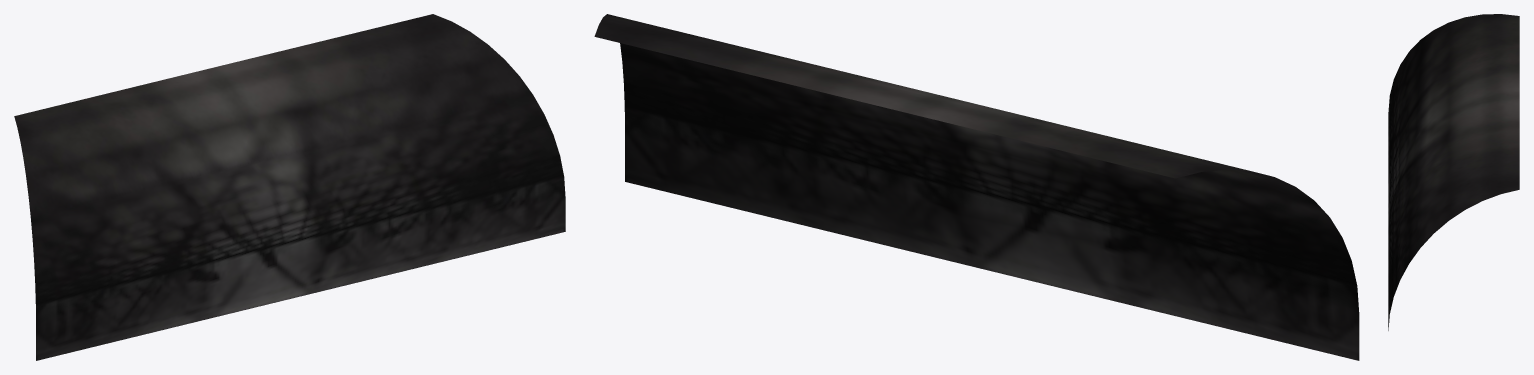
File: ARC0610015.fbx
The picture shows the model from 3 angles, left to right: view 1: azimuth 30°, elevation 25°; view 2: azimuth 150°, elevation 25°; view 3: azimuth 270°, elevation 25°; orthographic projection. The views are drawn at different scales.
Visible parts, largest first — view 1: smARC0610015; view 2: smARC0610015; view 3: smARC0610015.
Boxes of the visible parts, box(x1,y1,x2,y2) form: smARC0610015: box(14, 14, 565, 360); smARC0610015: box(594, 14, 1359, 360); smARC0610015: box(1388, 14, 1519, 330).
Size of the model in its own units: 3493 by 1100 by 884.
1 material, 1 textured.
